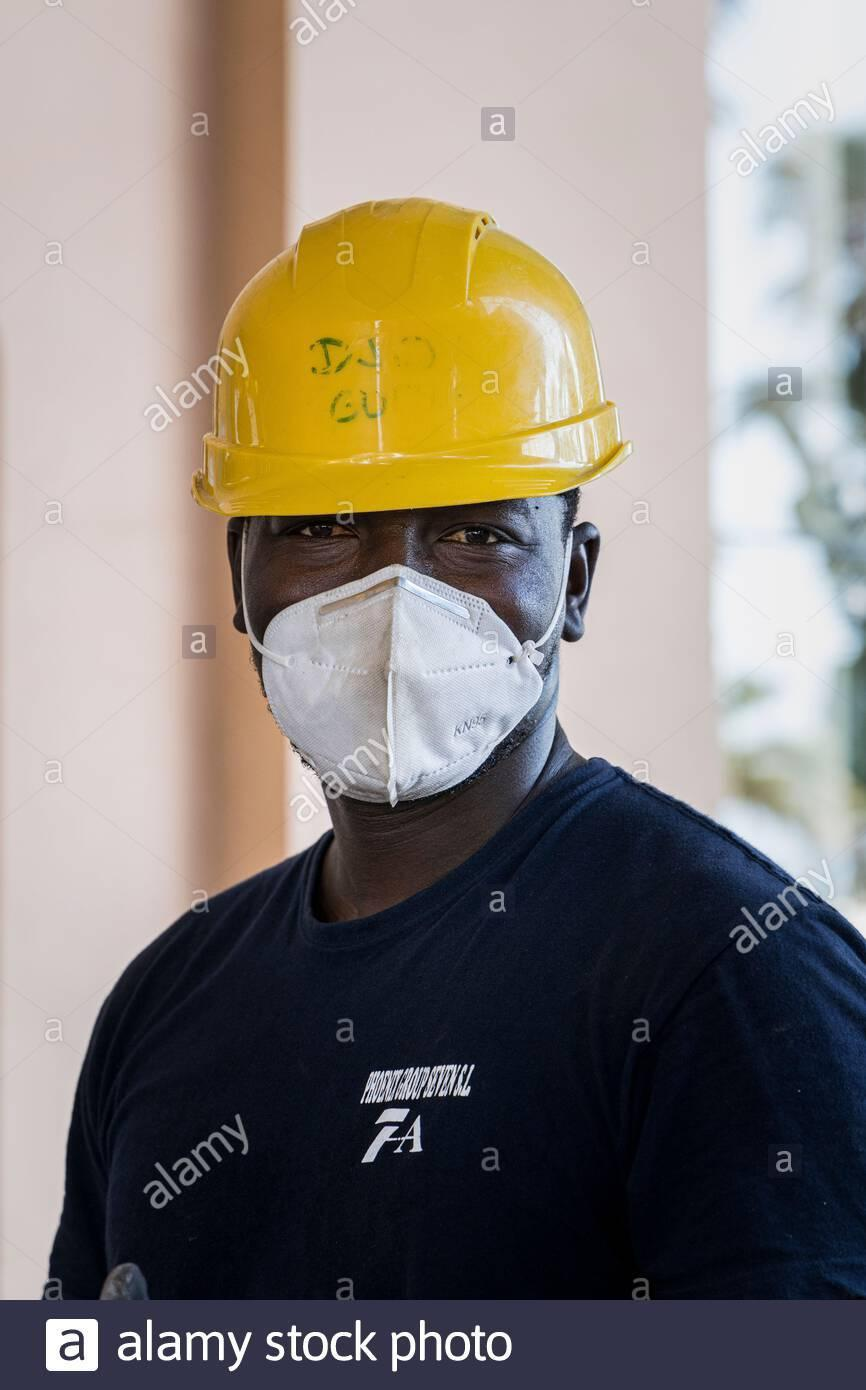hardhat: (186, 189, 631, 523)
worker: (33, 193, 862, 1311)
